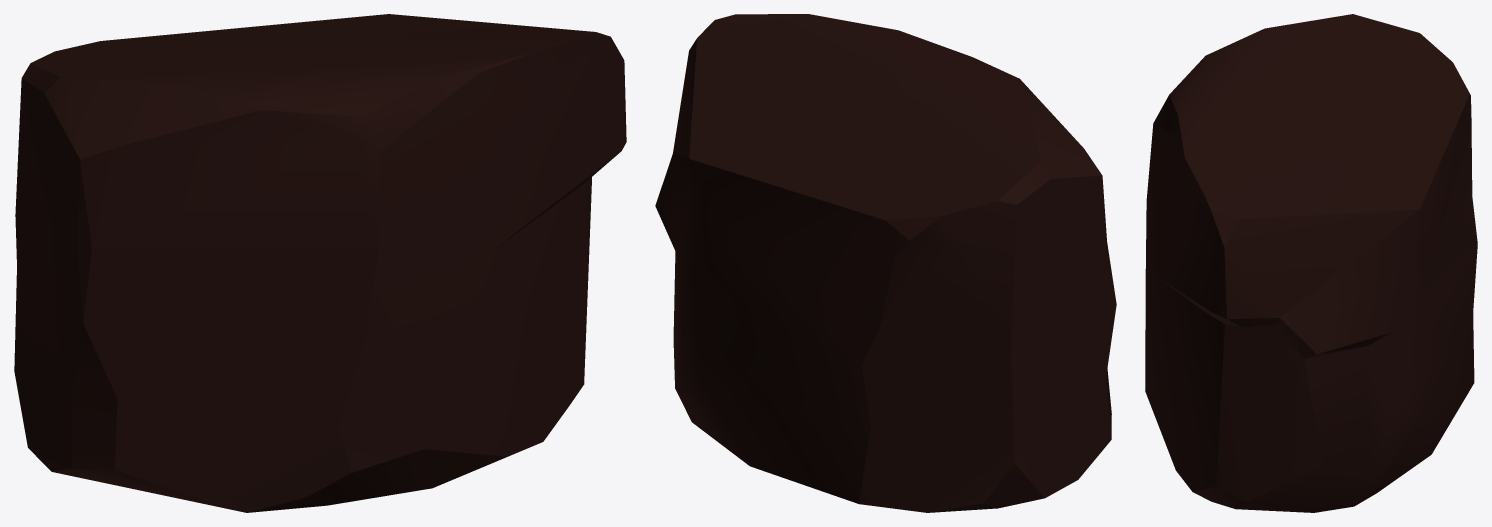
The model's file is SM_Rock_01.fbx.
3 views of the same model, side by side, from view 1: azimuth 30°, elevation 25°; view 2: azimuth 150°, elevation 25°; view 3: azimuth 270°, elevation 25° (orthographic). The views are drawn at different scales.
Visible parts, largest first — view 1: Group47750; view 2: Group47750; view 3: Group47750.
Part boxes in pixels (<box>): Group47750: <box>14,14,626,512</box>; Group47750: <box>655,14,1116,512</box>; Group47750: <box>1145,14,1477,512</box>.
Bounding box in the file's own units: 160 × 119 × 106.
